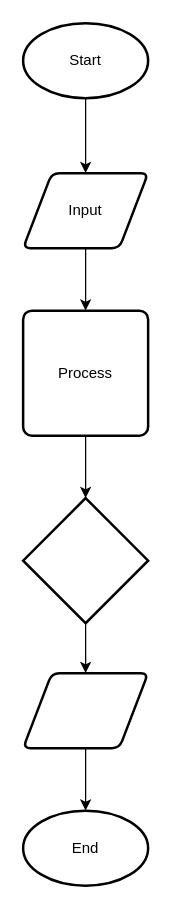
The diagram is 170 pixels wide and 908 high, and some of its shapes have lost their labels. The shapes that lost their labels are listed below. From the top down, each one's box as (x1, y1, x2, y2) in pixels, then its label:
(21, 496, 149, 624): If statement
(21, 671, 149, 749): Output
